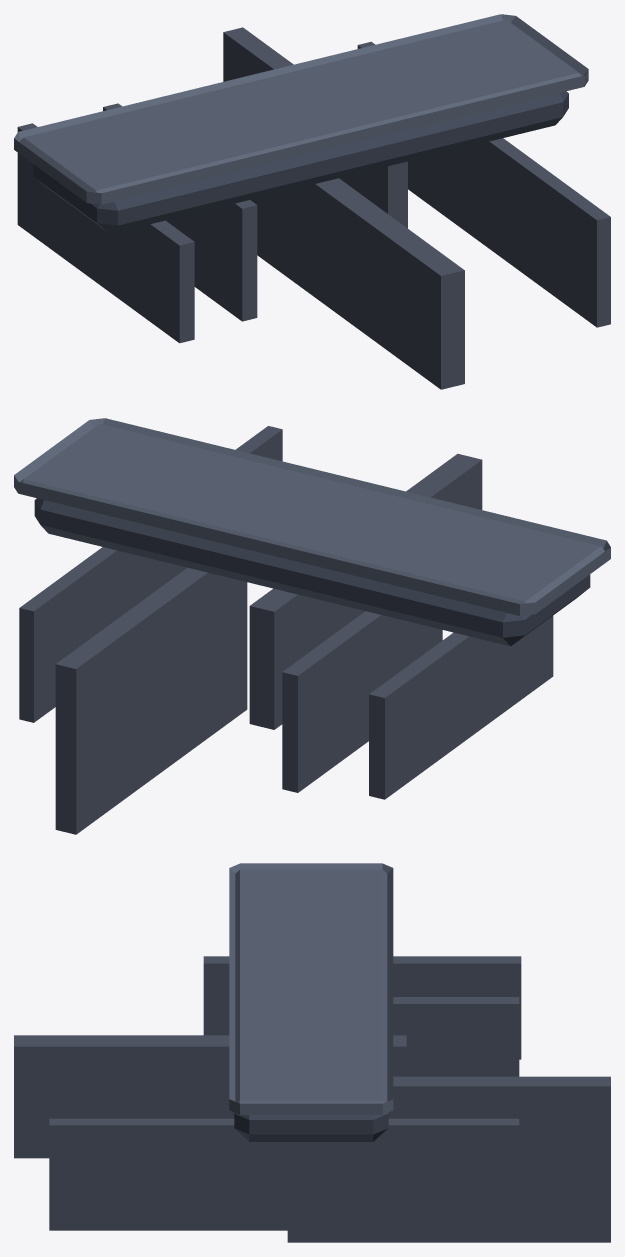
Rendered from platform_curve.glb.
The picture shows the model from 3 angles, top to bottom: view 1: azimuth 30°, elevation 25°; view 2: azimuth 150°, elevation 25°; view 3: azimuth 270°, elevation 25°; orthographic projection. The views are drawn at different scales.
Parts seen in each view (by area): view 1: platform_curve; view 2: platform_curve; view 3: platform_curve.
Part boxes in pixels (x1,y1,x2,y2): platform_curve: (14, 14, 610, 389); platform_curve: (14, 418, 610, 834); platform_curve: (14, 863, 610, 1242).
Bounding box in the file's own units: 3.68 × 1.53 × 3.86.
